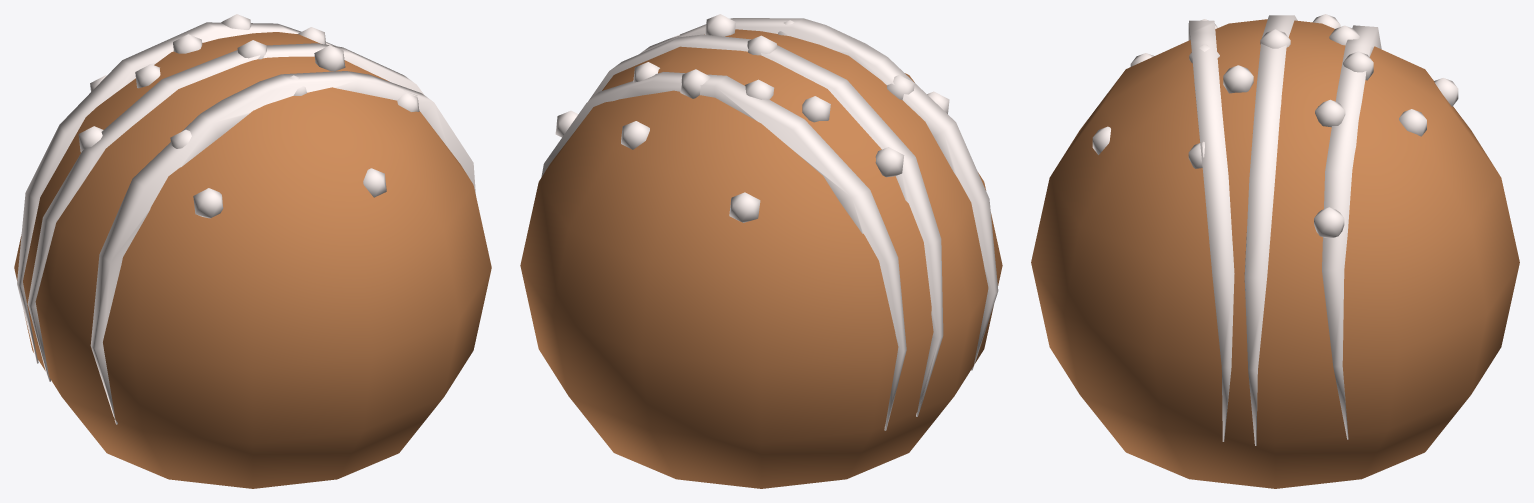
The model's file is bonbons-bush-4.glb.
3 renders of one model, left to right at view 1: azimuth 30°, elevation 25°; view 2: azimuth 150°, elevation 25°; view 3: azimuth 270°, elevation 25°, orthographic. The views are drawn at different scales.
Visible parts, largest first — view 1: bonbon, drizzles, sprinkles; view 2: bonbon, drizzles, sprinkles; view 3: bonbon, drizzles, sprinkles.
Part boxes in pixels (left/top/right/bottom): bonbon: left=14, top=32, right=491, bottom=488; drizzles: left=17, top=22, right=475, bottom=424; sprinkles: left=78, top=14, right=419, bottom=218; bonbon: left=520, top=29, right=1002, bottom=488; drizzles: left=541, top=18, right=998, bottom=430; sprinkles: left=555, top=14, right=949, bottom=222; bonbon: left=1031, top=19, right=1519, bottom=488; drizzles: left=1188, top=15, right=1381, bottom=445; sprinkles: left=1092, top=14, right=1458, bottom=237.
Size of what is drawn, in the model's own units: 1 by 0.9562 by 1.
